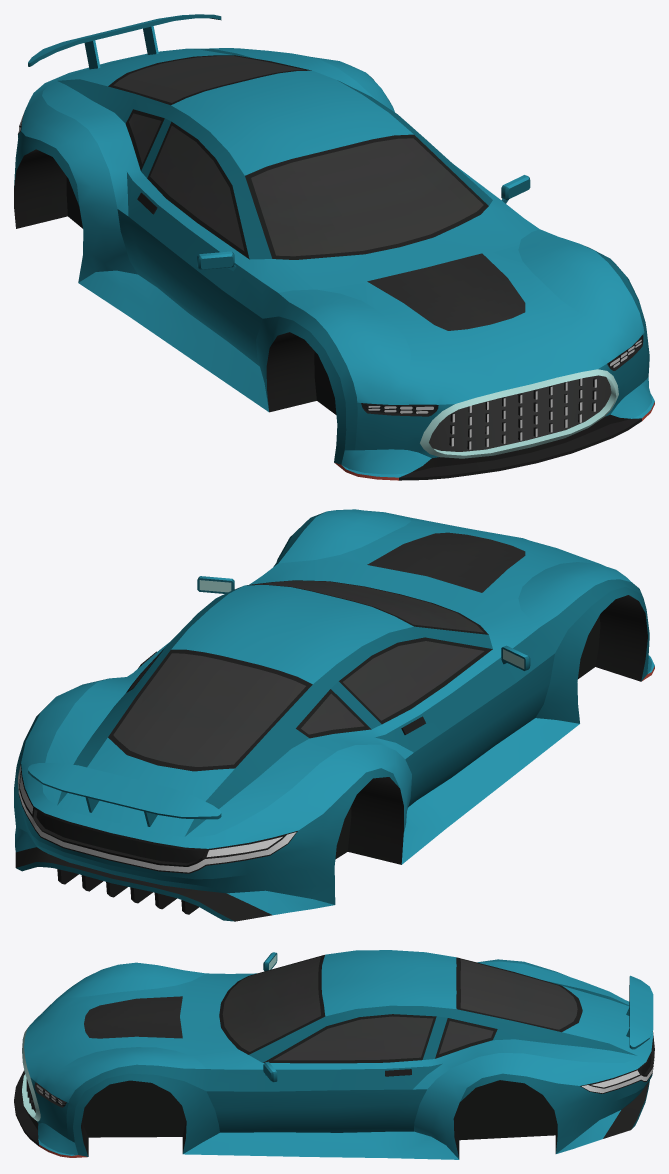
Rendered from ApolloEDT.fbx.
3 views of the same model, one above another, from view 1: azimuth 30°, elevation 25°; view 2: azimuth 150°, elevation 25°; view 3: azimuth 270°, elevation 25° (orthographic). The views are drawn at different scales.
Visible parts, largest first — view 1: Body; view 2: Body; view 3: Body.
Boxes of the visible parts, x1=… form: Body: x1=14, y1=14, x2=654, y2=480; Body: x1=14, y1=509, x2=654, y2=921; Body: x1=14, y1=950, x2=654, y2=1159.
Bounding box in the file's own units: 234 × 117 × 523.
